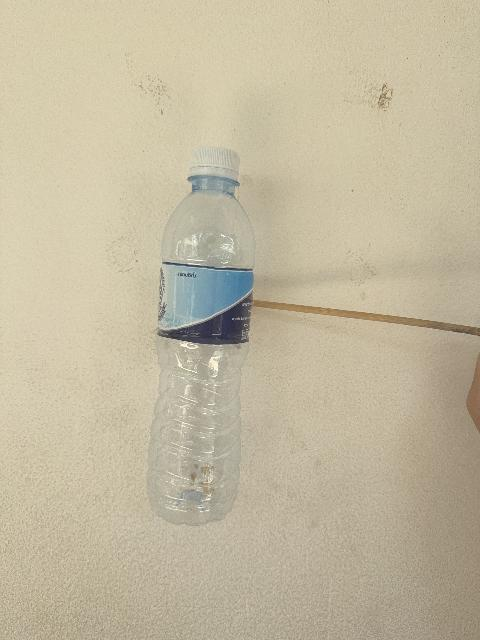bottle: (147, 147, 253, 525)
